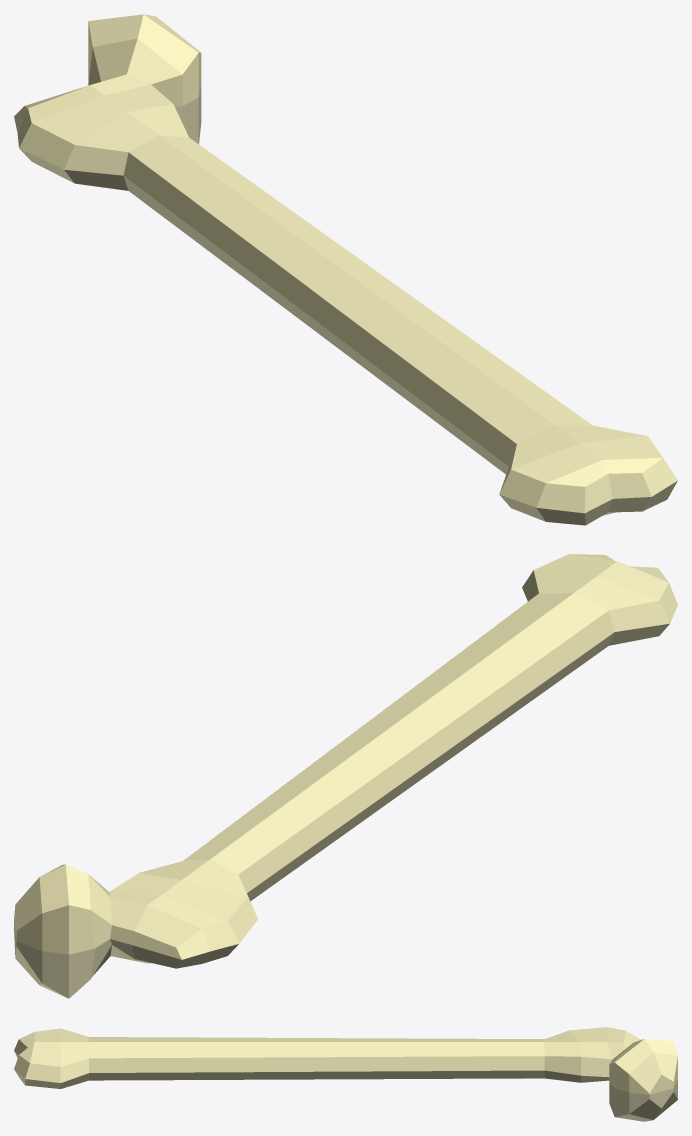
The model's file is Bone1.fbx.
The picture shows the model from 3 angles, top to bottom: view 1: azimuth 30°, elevation 25°; view 2: azimuth 150°, elevation 25°; view 3: azimuth 270°, elevation 25°; orthographic projection. The views are drawn at different scales.
Parts seen in each view (by area): view 1: pCube9; view 2: pCube9; view 3: pCube9.
Part boxes in pixels (<box>): pCube9: <box>14,14,677,525</box>; pCube9: <box>14,554,677,998</box>; pCube9: <box>14,1027,677,1121</box>.
Bounding box in the file's own units: 0.1568 × 0.1033 × 0.7505.
